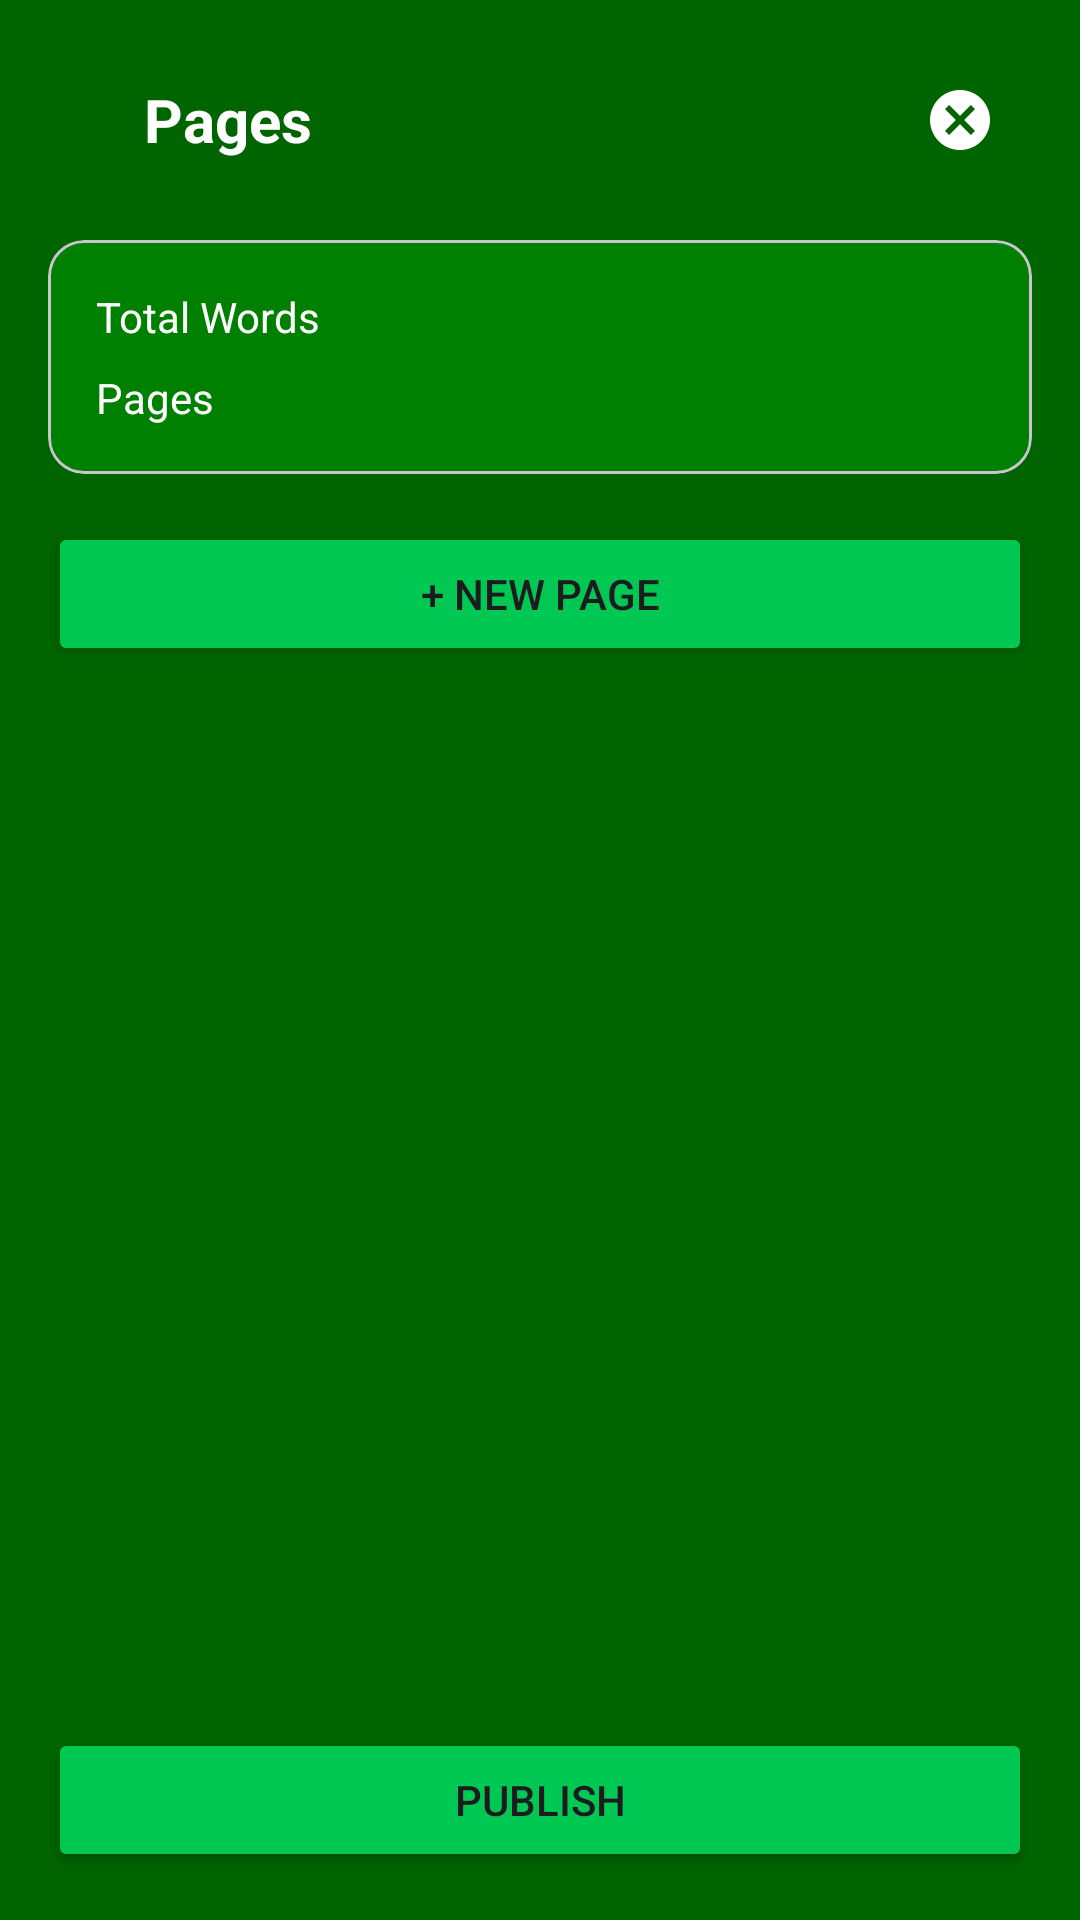

Where icons sit on this 1080*1920 app screen, as (x1, y1, x2, y2):
close circle: (930, 90, 990, 150)
